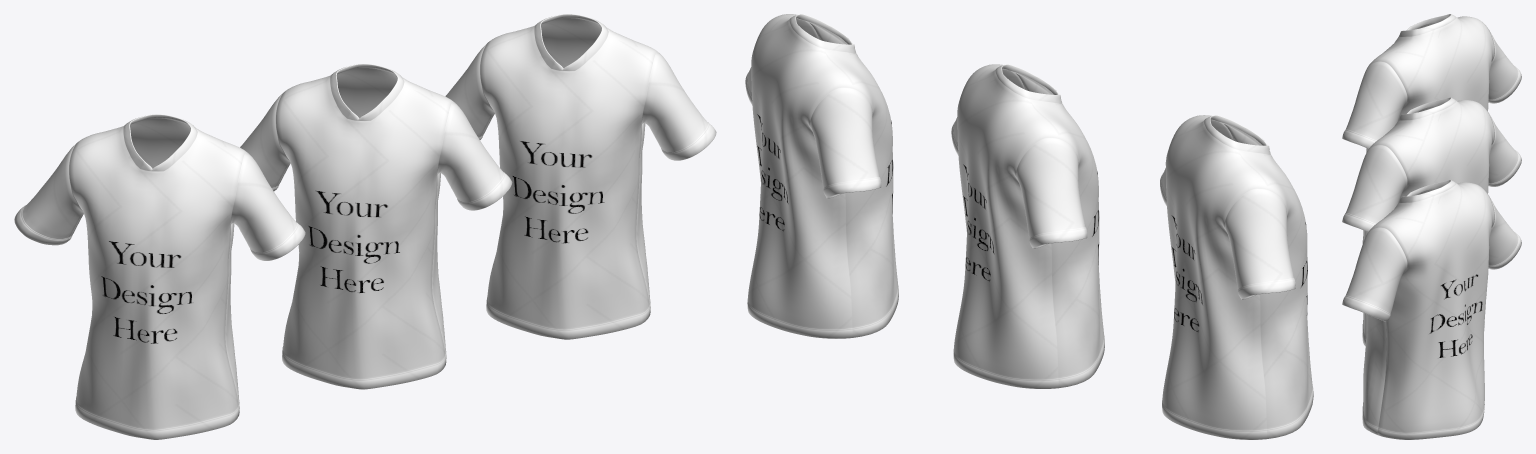
Rendered from T-shirt A-4.glb.
The picture shows the model from 3 angles, left to right: view 1: azimuth 30°, elevation 25°; view 2: azimuth 150°, elevation 25°; view 3: azimuth 270°, elevation 25°; orthographic projection. The views are drawn at different scales.
Visible parts, largest first — view 1: T-shirt procedural texture.002, T-shirt procedural texture, T-shirt procedural texture.001; view 2: T-shirt procedural texture.002, T-shirt procedural texture.001, T-shirt procedural texture; view 3: T-shirt procedural texture.001, T-shirt procedural texture.002, T-shirt procedural texture.
Part boxes in pixels (left/top/right/bottom): T-shirt procedural texture.002: left=14, top=114, right=305, bottom=439; T-shirt procedural texture: left=240, top=64, right=512, bottom=389; T-shirt procedural texture.001: left=445, top=14, right=716, bottom=339; T-shirt procedural texture.002: left=1160, top=115, right=1313, bottom=439; T-shirt procedural texture.001: left=745, top=14, right=898, bottom=338; T-shirt procedural texture: left=951, top=64, right=1104, bottom=388; T-shirt procedural texture.001: left=1342, top=180, right=1521, bottom=439; T-shirt procedural texture.002: left=1342, top=14, right=1521, bottom=243; T-shirt procedural texture: left=1342, top=97, right=1521, bottom=345.
Size of the model in its own units: 1.64 by 0.7167 by 0.4984.
Materials: 1 (1 with a texture image).
